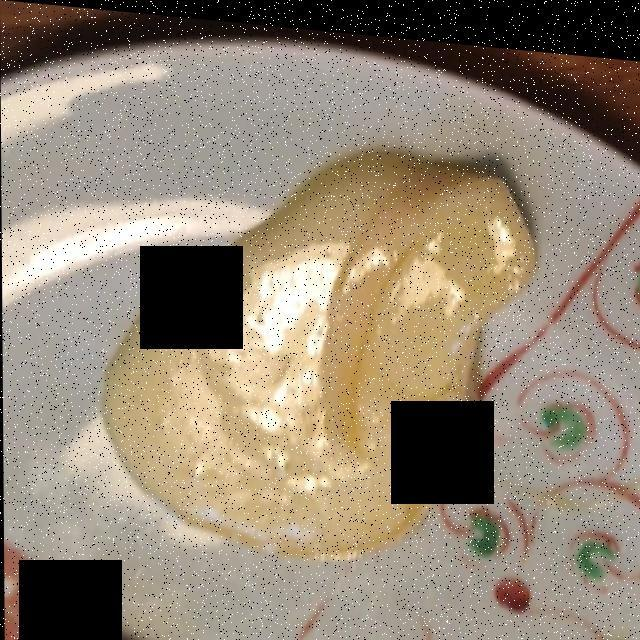cheese: (109, 147, 526, 555)
